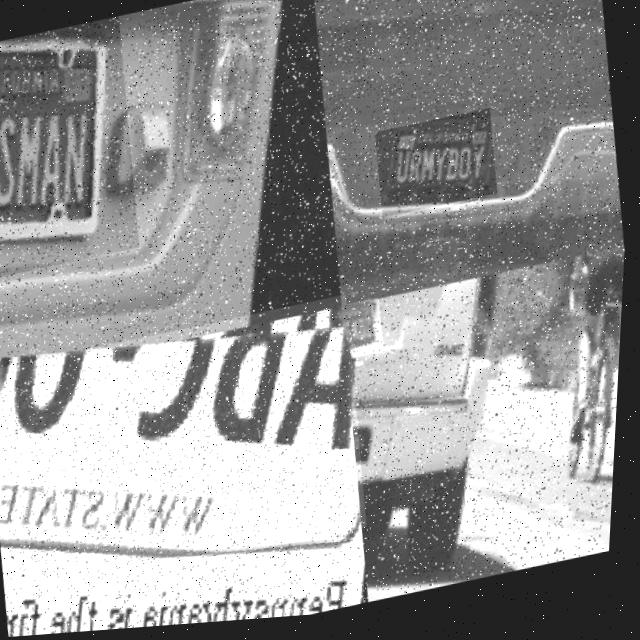LicensePlate: (0, 298, 382, 606), (0, 16, 151, 281), (385, 133, 494, 208), (340, 303, 390, 366)
